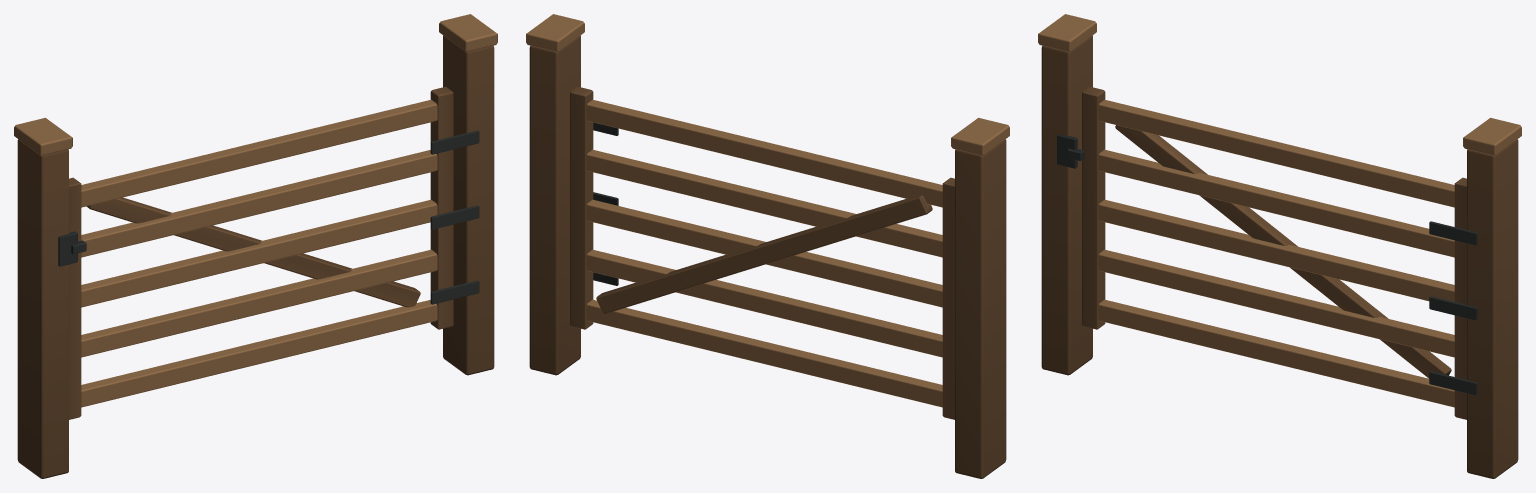
Rendered from gate.glb.
3 views of the same model, side by side, from view 1: azimuth 30°, elevation 25°; view 2: azimuth 150°, elevation 25°; view 3: azimuth 330°, elevation 25° (orthographic).
Visible parts, largest first — view 1: gate; view 2: gate; view 3: gate.
Boxes of the visible parts, <box> form: gate: <box>14,14,497,478</box>; gate: <box>526,14,1009,478</box>; gate: <box>1038,14,1521,478</box>.
Bounding box in the file's own units: 1.92 × 1.35 × 0.21.
